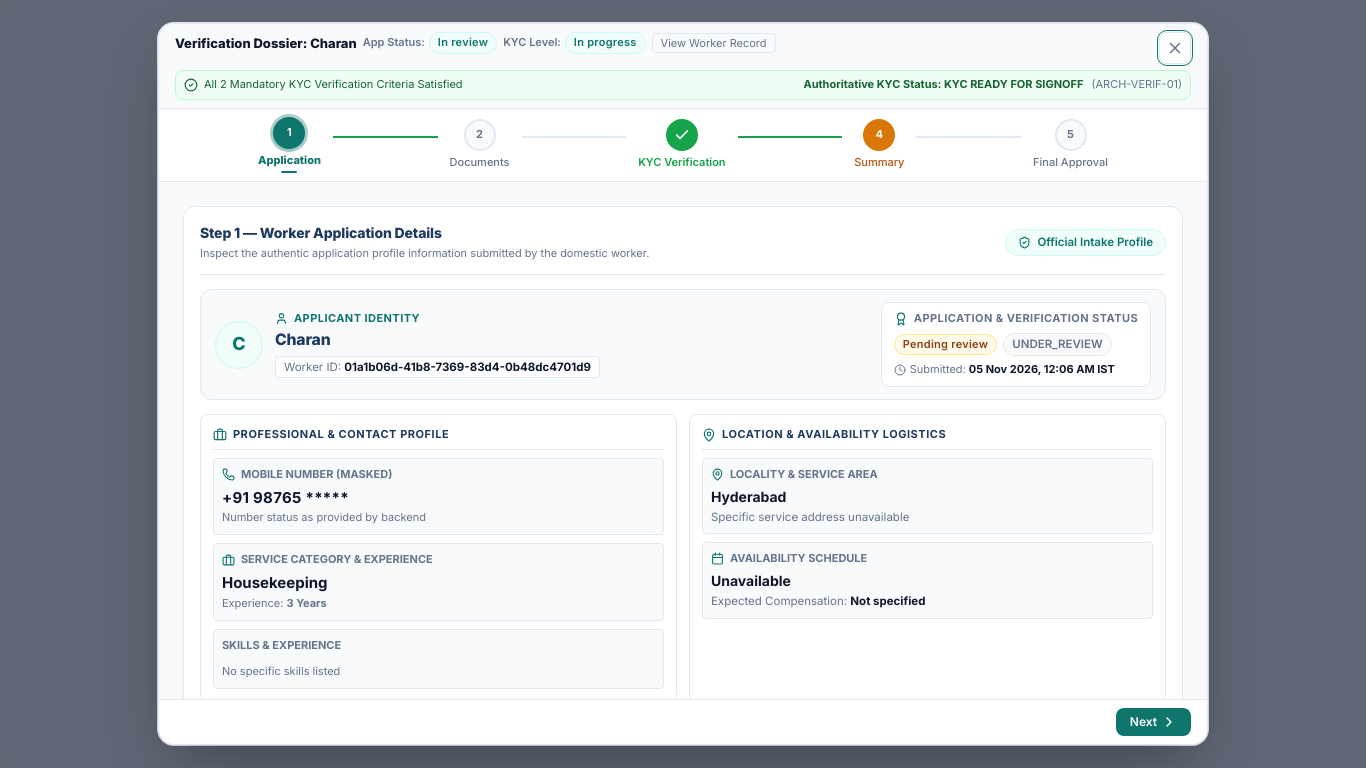
Scenario: Police Certificate Document Preview & Verification › displays clear error when Police Certificate file is missing or inaccessible in storage without marking verified
The image size is (1366, 768).
Click the button "Next": x=1154, y=722 [1116,708,1191,736]
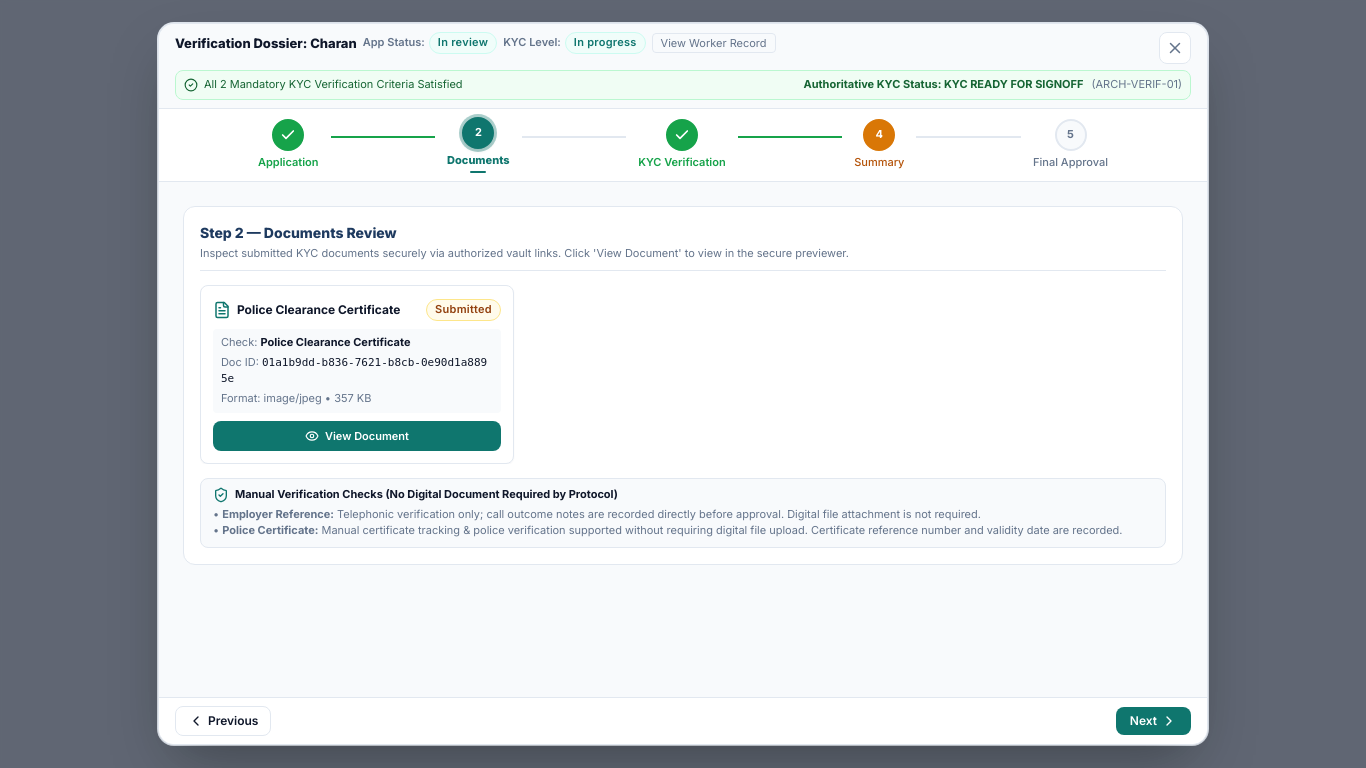
Click the button with test id "view-document-btn-01a1b9dd-b836-7621-b8cb-0e90d1a8895e": x=357, y=436 [213,421,501,451]
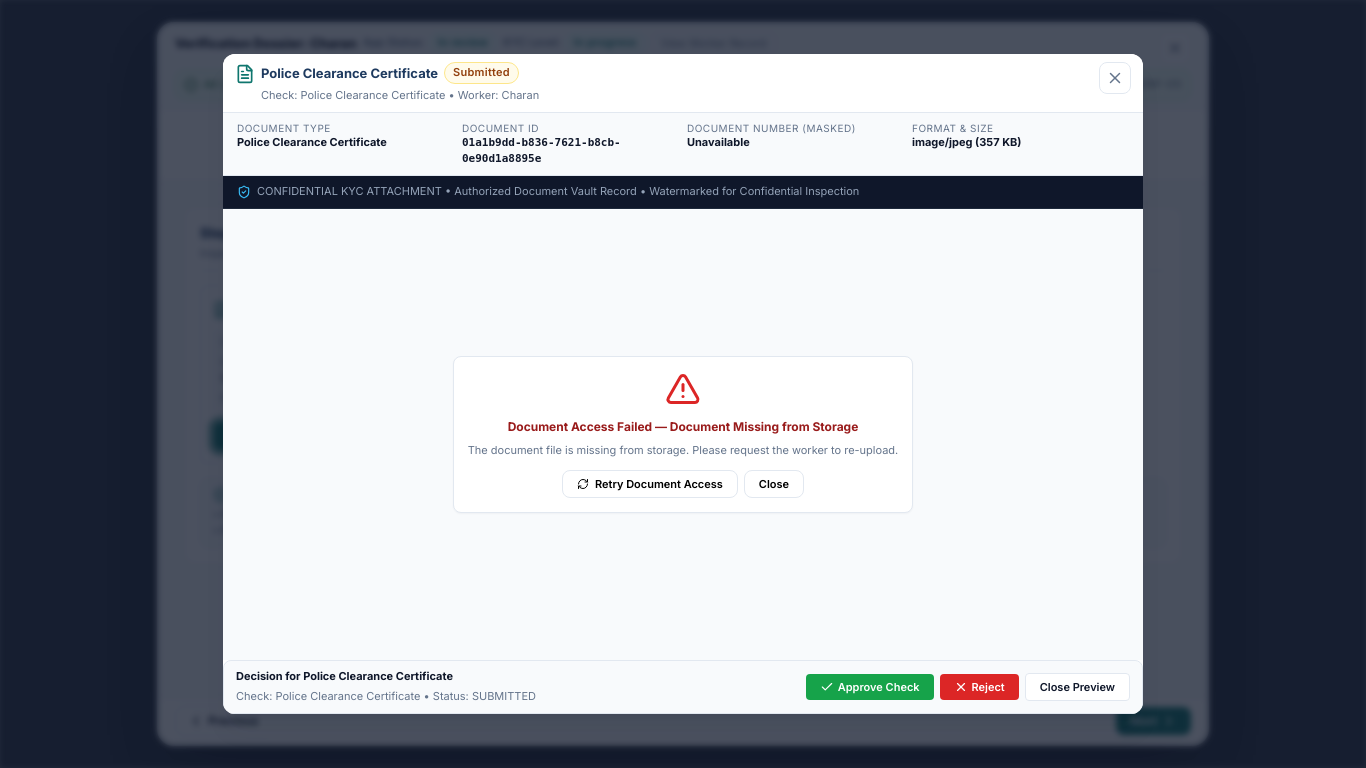
Expected: the element with test id "document-vault-error-container" shows "Document Missing from Storage", [508,419,858,434]
Expected: the button "Retry Document Access" is shown, [562,470,738,498]
